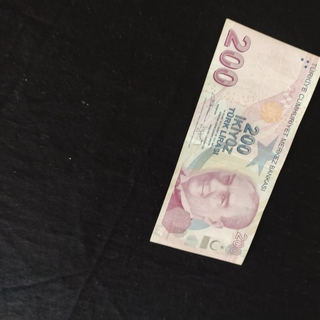200TLFront: (149, 17, 320, 266)
